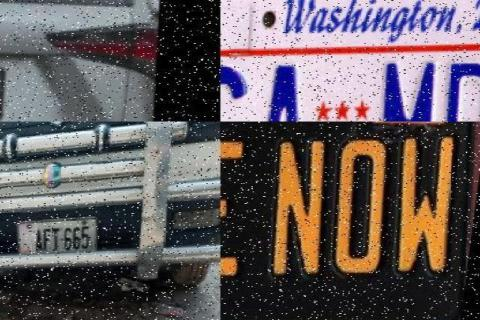LicensePlate: (221, 126, 471, 302), (220, 41, 480, 122), (14, 215, 104, 258), (0, 62, 47, 120)
